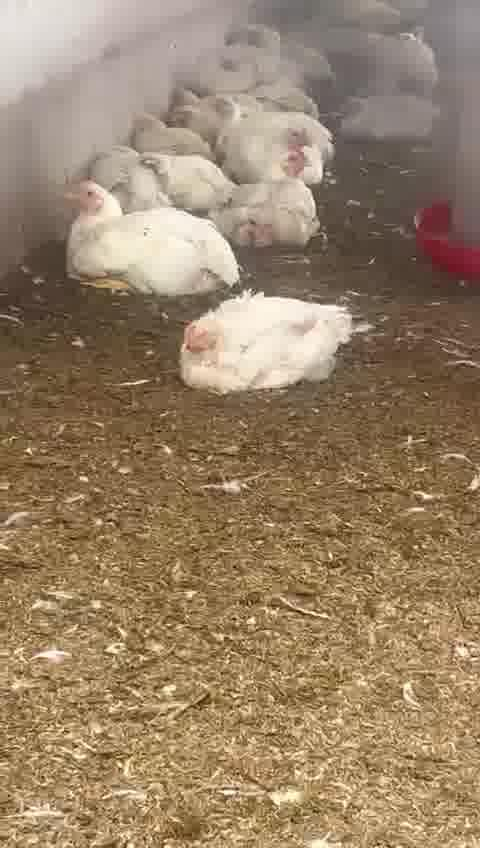AbNormal: (165, 283, 368, 400), (81, 145, 203, 209), (116, 110, 210, 164), (158, 77, 228, 122)
Normal: (40, 178, 225, 312), (233, 149, 321, 241), (212, 96, 335, 158), (327, 84, 439, 145), (233, 128, 327, 174)
